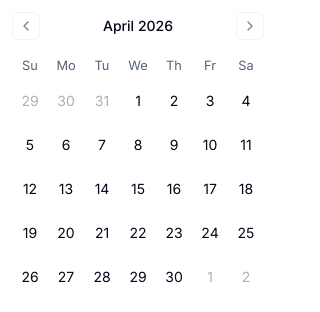
paging the calendar by swiping the day grid › shows the previous month when the grid is dragged right
This screenshot has width=320, height=312.
Press the mouse on the table at (138, 176), box [12, 56, 264, 295]
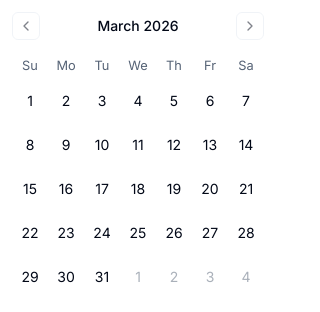
Check: the message "March 2026" is shown, box [97, 16, 179, 36]
